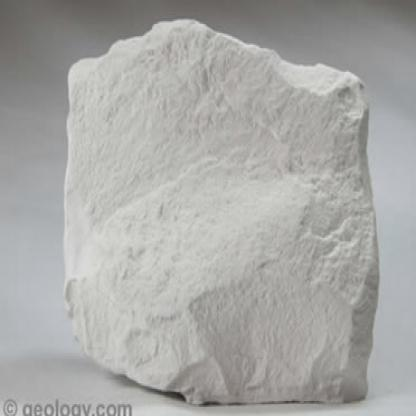Sedimentary_Chalk: (57, 15, 384, 404)
